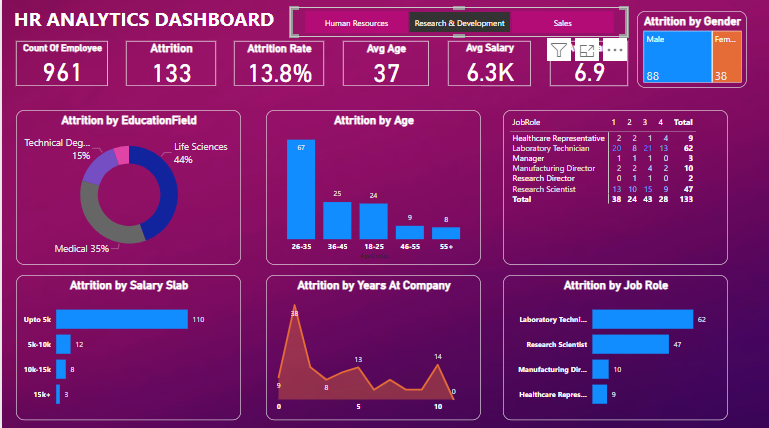

The dashboard page shown, as its layout file describes it:
{"tool":"powerbi","page":{"name":"Page 1","canvas":[1280,720],"ordinal":0},"visuals":[{"type":"card","title":"Count Of Employee","fields":{"Values":["CountNonNull(HR_Analytics.EmpID)"]},"box":[23.3,71.7,153.3,75],"z":0},{"type":"card","title":"Attrition","fields":{"Values":["Sum(HR_Analytics.AttritionCount)"]},"box":[206.7,71.7,150,75],"z":1000},{"type":"card","title":"Attrition Rate","fields":{"Values":["HR_Analytics.AttritionRate"]},"box":[386.7,71.7,150,75],"z":2000},{"type":"card","title":"Avg Age","fields":{"Values":["Avg(HR_Analytics.Age)"]},"box":[568.3,71.7,143.3,75],"z":3000},{"type":"card","title":"Avg Salary","fields":{"Values":["Avg(HR_Analytics.MonthlyIncome)"]},"box":[743.3,71.7,138.3,75],"z":4000},{"type":"card","title":"Avg Years","fields":{"Values":["Avg(HR_Analytics.YearsAtCompany)"]},"box":[913.3,71.7,130,75],"z":5000},{"type":"donutChart","title":"Attrition by EducationField","fields":{"Category":["HR_Analytics.EducationField"],"Y":["Sum(HR_Analytics.AttritionCount)"]},"box":[23.3,186.7,375,258.3],"z":6000},{"type":"columnChart","title":"Attrition by Age","fields":{"Category":["HR_Analytics.AgeGroup"],"Y":["Sum(HR_Analytics.AttritionCount)"]},"box":[440,186.7,358.3,258.3],"z":7000},{"type":"pivotTable","fields":{"Rows":["HR_Analytics.JobRole"],"Columns":["HR_Analytics.JobSatisfaction"],"Values":["Sum(HR_Analytics.AttritionCount)"]},"box":[835,186.7,375,258.3],"z":8000},{"type":"barChart","title":"Attrition by Salary Slab","fields":{"Category":["HR_Analytics.SalarySlab"],"Y":["Sum(HR_Analytics.AttritionCount)"]},"box":[23.3,461.7,375,241.7],"z":9000},{"type":"barChart","title":"Attrition by Job Role","fields":{"Y":["Sum(HR_Analytics.AttritionCount)"],"Category":["HR_Analytics.JobRole"]},"box":[835,461.7,375,241.7],"z":10000},{"type":"areaChart","title":"Attrition by Years At Company","fields":{"Category":["HR_Analytics.YearsAtCompany"],"Y":["Sum(HR_Analytics.AttritionCount)"]},"box":[440,461.7,358.3,241.7],"z":11000},{"type":"treemap","title":"Attrition by Gender","fields":{"Group":["HR_Analytics.Gender"],"Values":["Sum(HR_Analytics.AttritionCount)"]},"box":[1058.3,21.7,183.3,128.3],"z":12000},{"type":"textbox","box":[15,6.7,468.3,58.3],"z":14000},{"type":"slicer","fields":{"Values":["HR_Analytics.Department"]},"box":[480,15,563.3,50],"z":14001}]}

Visuals, with their boxes in screenshot pixels (x1, y1, x2, y2), scaled from the page's 1280x720 canvas onto the 769x428 screenshot:
"Count Of Employee" card: <bbox>14, 43, 106, 87</bbox>
"Attrition" card: <bbox>124, 43, 214, 87</bbox>
"Attrition Rate" card: <bbox>232, 43, 322, 87</bbox>
"Avg Age" card: <bbox>341, 43, 428, 87</bbox>
"Avg Salary" card: <bbox>447, 43, 530, 87</bbox>
"Avg Years" card: <bbox>549, 43, 627, 87</bbox>
"Attrition by EducationField" donutChart: <bbox>14, 111, 239, 265</bbox>
"Attrition by Age" columnChart: <bbox>264, 111, 480, 265</bbox>
pivotTable - HR_Analytics.JobRole x HR_Analytics.JobSatisfaction: <bbox>502, 111, 727, 265</bbox>
"Attrition by Salary Slab" barChart: <bbox>14, 274, 239, 418</bbox>
"Attrition by Job Role" barChart: <bbox>502, 274, 727, 418</bbox>
"Attrition by Years At Company" areaChart: <bbox>264, 274, 480, 418</bbox>
"Attrition by Gender" treemap: <bbox>636, 13, 746, 89</bbox>
textbox: <bbox>9, 4, 290, 39</bbox>
slicer - HR_Analytics.Department: <bbox>288, 9, 627, 39</bbox>
